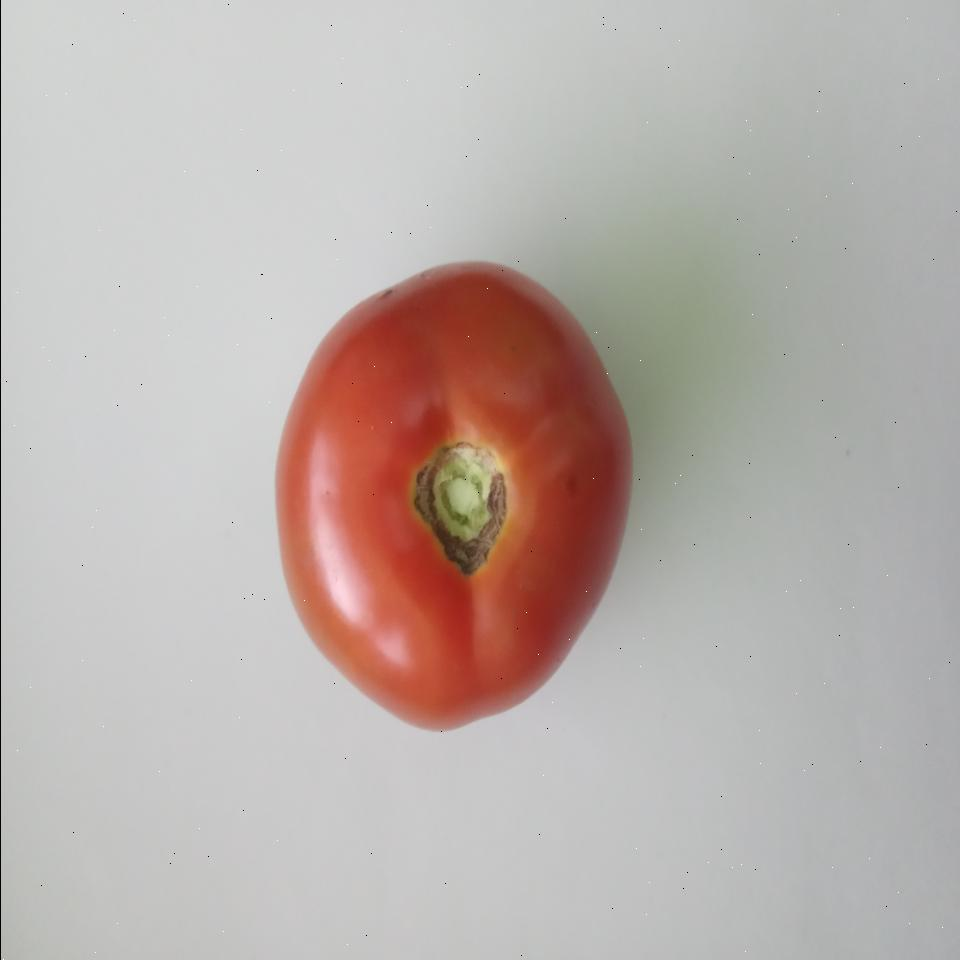Healthy: (260, 244, 638, 746)
